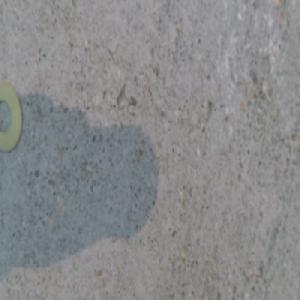Washer: (0, 82, 23, 152)
